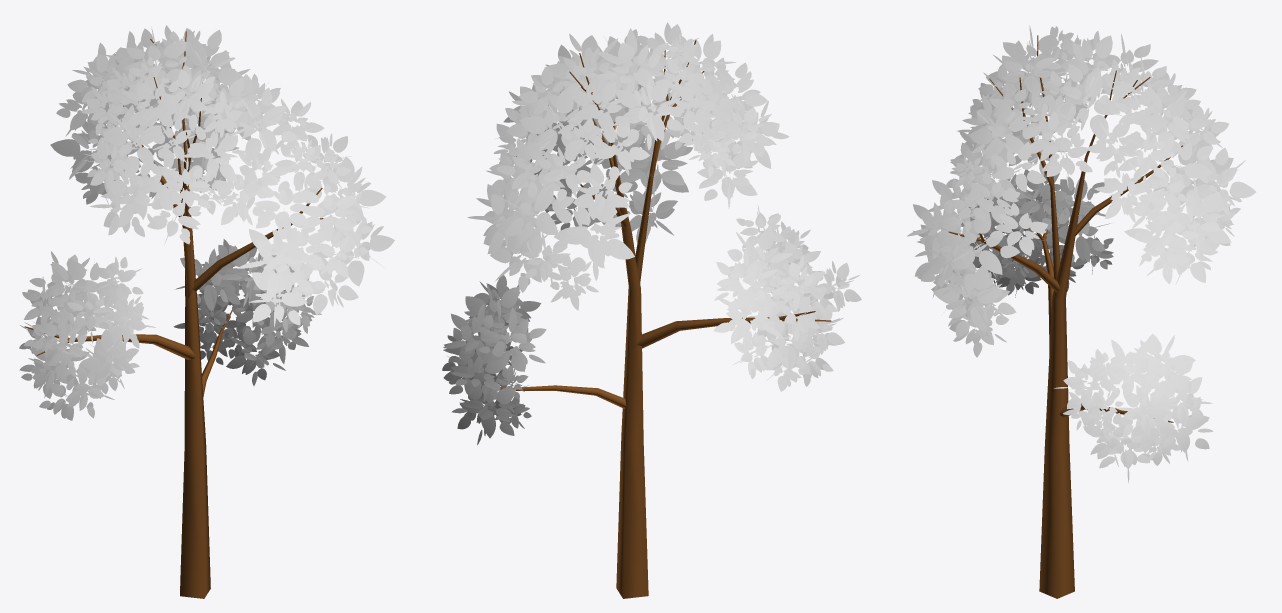
File: SM_BirchReduced.fbx
3 views of the same model, side by side, from view 1: azimuth 30°, elevation 25°; view 2: azimuth 150°, elevation 25°; view 3: azimuth 270°, elevation 25° (orthographic). The views are drawn at different scales.
Parts seen in each view (by area): view 1: Birch_Leaves.250, Birch_TreeReduced; view 2: Birch_Leaves.250, Birch_TreeReduced; view 3: Birch_Leaves.250, Birch_TreeReduced.
Boxes of the visible parts, bbox=[...] form: Birch_Leaves.250: bbox=[19, 25, 394, 420]; Birch_TreeReduced: bbox=[24, 31, 323, 598]; Birch_Leaves.250: bbox=[442, 22, 861, 445]; Birch_TreeReduced: bbox=[481, 40, 831, 598]; Birch_Leaves.250: bbox=[907, 25, 1256, 483]; Birch_TreeReduced: bbox=[948, 35, 1182, 598].
Size of the model in its own units: 1.67 by 1.81 by 2.77.
